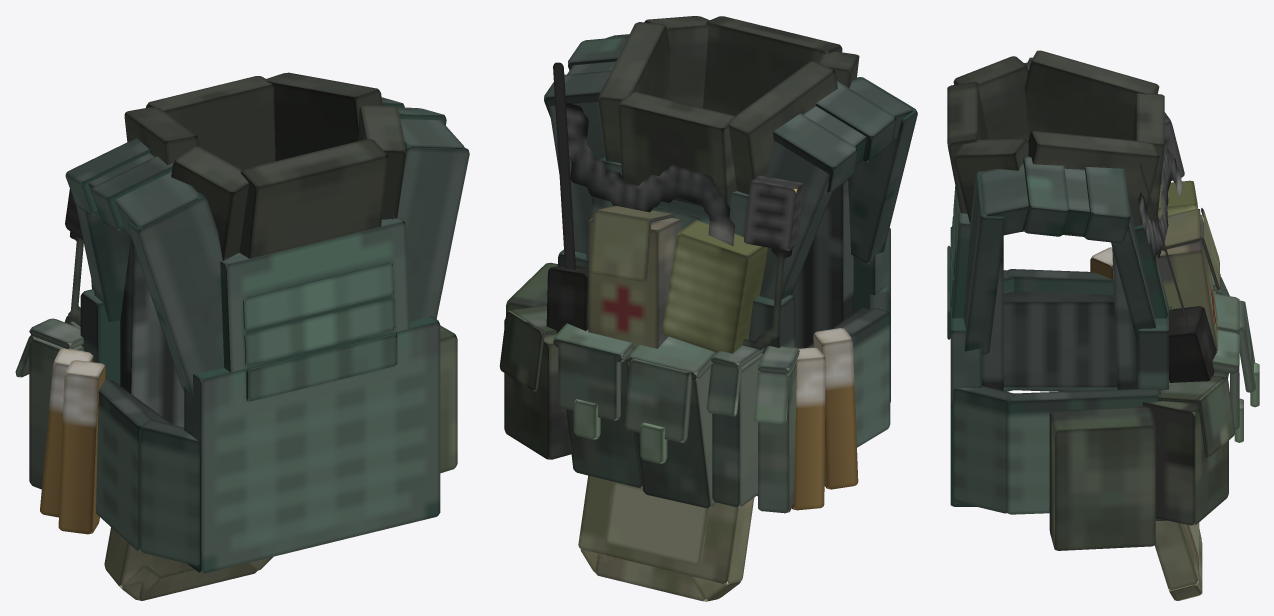
Rendered from hazard_kit.obj.
3 views of the same model, side by side, from view 1: azimuth 30°, elevation 25°; view 2: azimuth 150°, elevation 25°; view 3: azimuth 270°, elevation 25° (orthographic). The views are drawn at different scales.
Visible parts, largest first — view 1: plane; view 2: plane; view 3: plane.
Part boxes in pixels (<box>): plane: <box>15,72,469,600</box>; plane: <box>499,16,917,601</box>; plane: <box>947,50,1259,600</box>.
Size of the model in its own units: 0.7692 by 1.13 by 0.6254.
